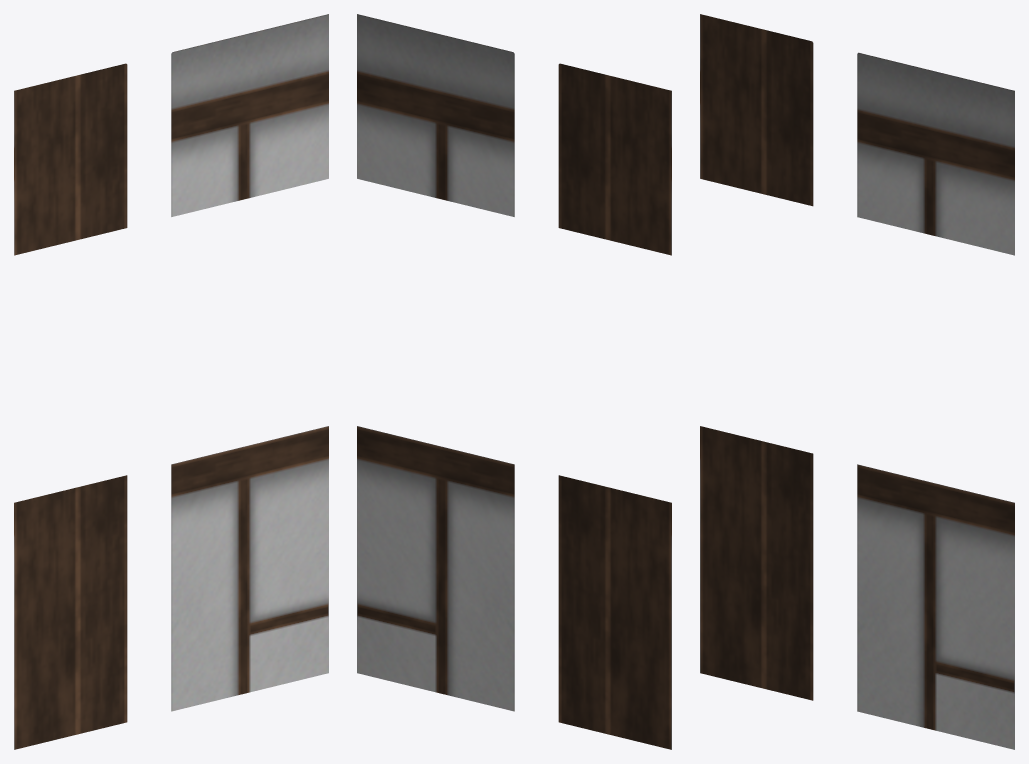
The model's file is house_wall_window_b_inside.fbx.
3 renders of one model, left to right at view 1: azimuth 30°, elevation 25°; view 2: azimuth 150°, elevation 25°; view 3: azimuth 330°, elevation 25°, orthographic.
Parts seen in each view (by area): view 1: house_wall_window_b_inside; view 2: house_wall_window_b_inside; view 3: house_wall_window_b_inside.
Part boxes in pixels (x1,y1,x2,y2): house_wall_window_b_inside: (14, 14, 328, 749); house_wall_window_b_inside: (357, 14, 671, 749); house_wall_window_b_inside: (700, 14, 1014, 749).
Bounding box in the file's own units: 200 × 400 × 6.52e-05.
